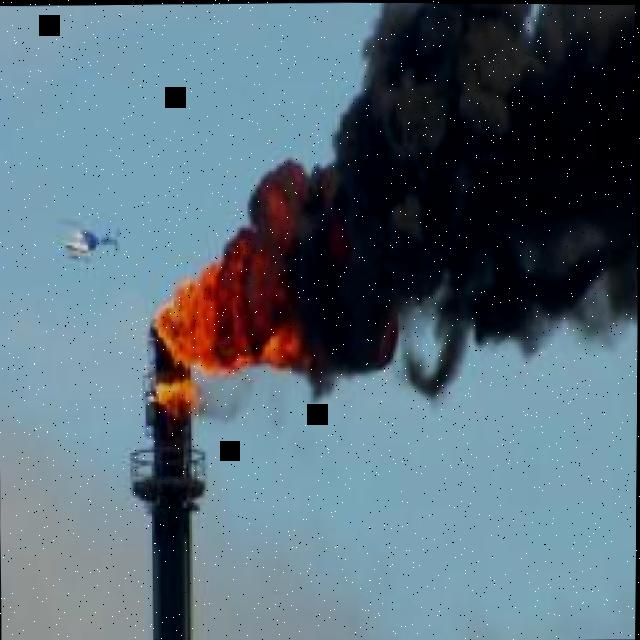fire: (152, 223, 308, 376), (155, 381, 204, 420)
smoke: (248, 2, 638, 396), (391, 304, 472, 398), (195, 375, 251, 421)
